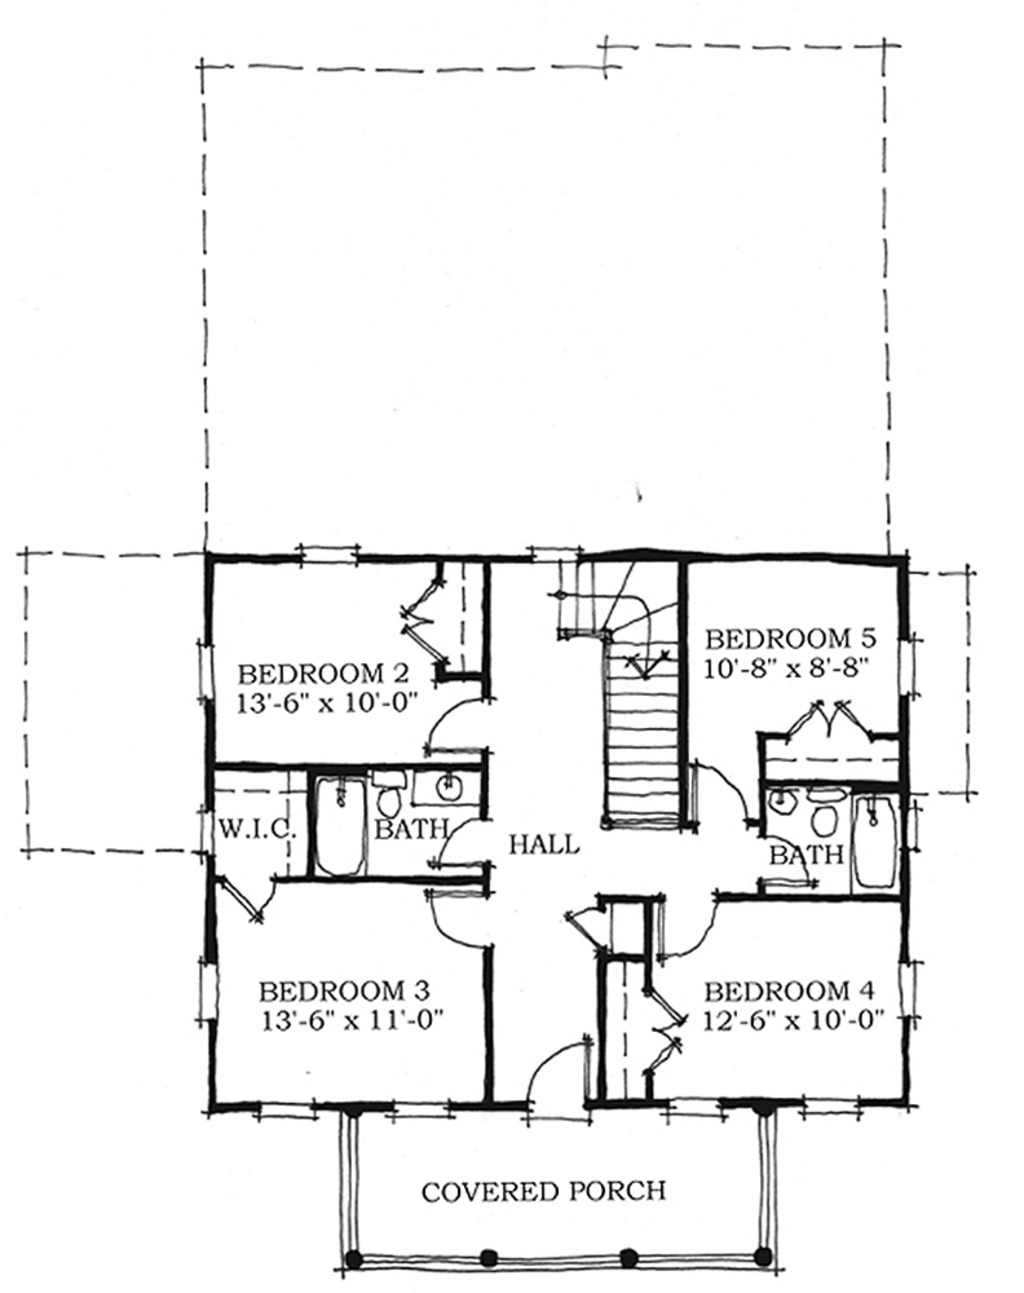door: (522, 1033, 596, 1109), (419, 694, 496, 761), (649, 890, 723, 960), (425, 886, 484, 948), (430, 818, 486, 868)
stairs: (553, 559, 696, 841)
